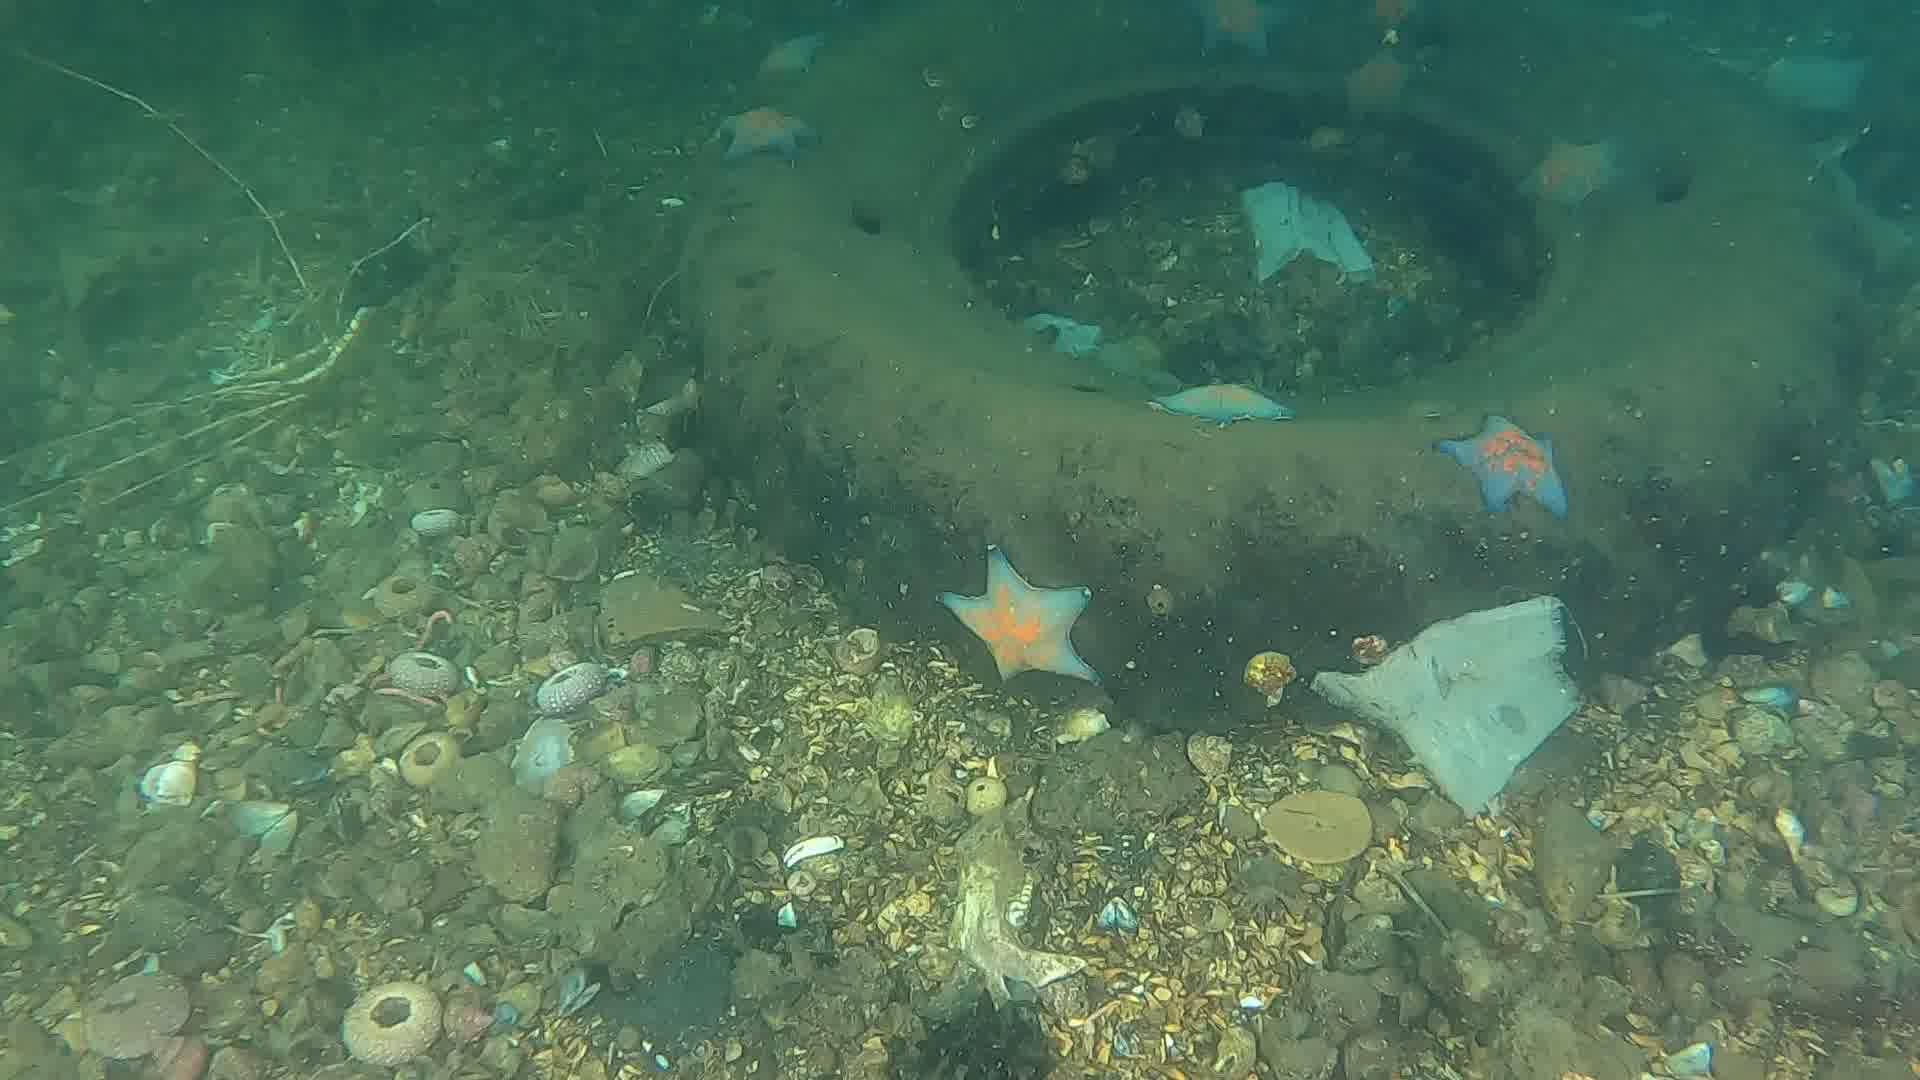tire: (679, 7, 1874, 711)
